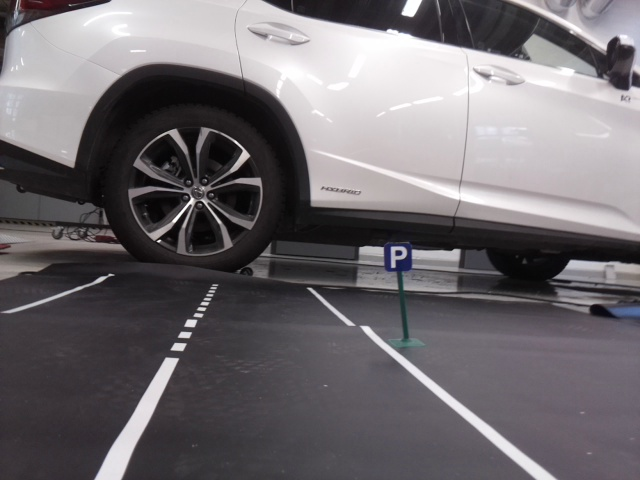Parking: (383, 240, 411, 271)
